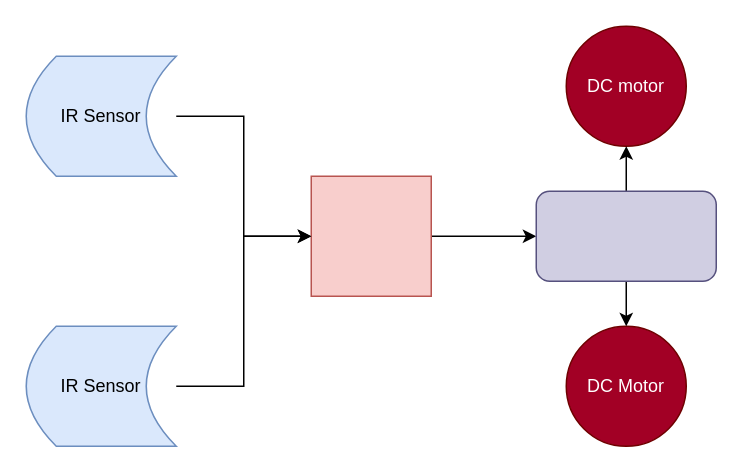
This 743x473 diagram has some shape labels left out. The shapes that lost their labels are listed below. From the top down, each one's box as (x1, y1, x2, y2) in pixels, then its label:
(310, 175, 431, 296): Atmega 328
(535, 190, 716, 281): Motor Driver
